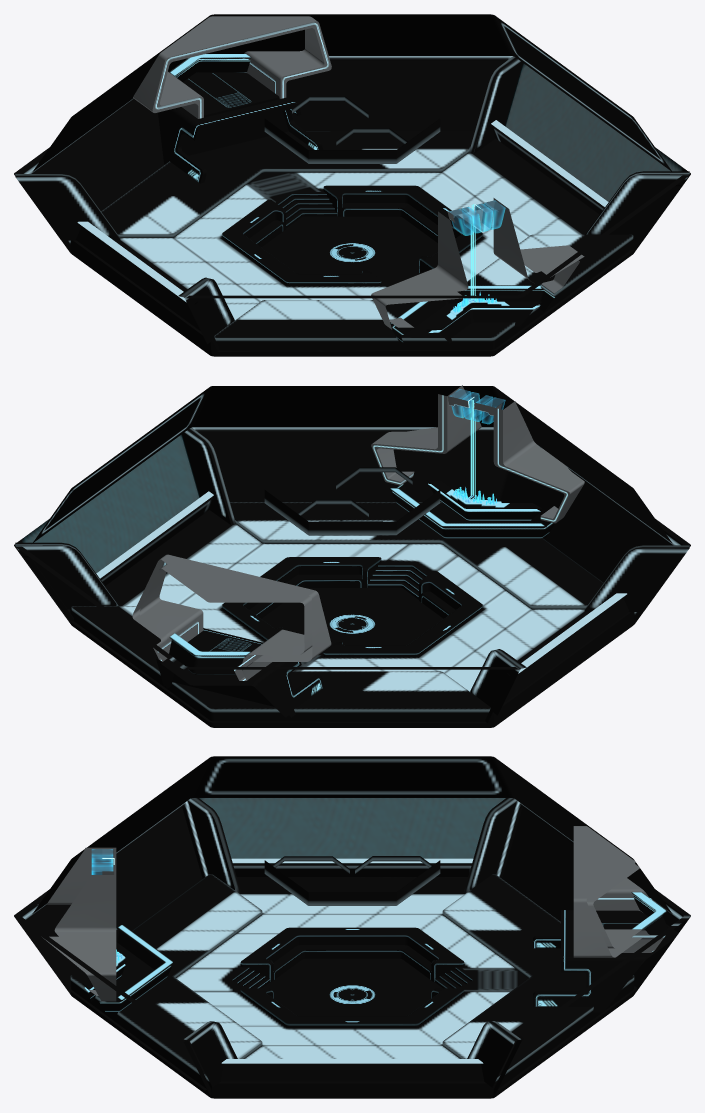
The model's file is end_of_line_club.glb.
3 views of the same model, one above another, from view 1: azimuth 30°, elevation 25°; view 2: azimuth 150°, elevation 25°; view 3: azimuth 270°, elevation 25° (orthographic).
Visible parts, largest first — view 1: WallGen_low, EntranceMain_low, CenterFloor_low, BarWalls_low, BarCity_1; view 2: WallGen_low, EntranceMain_low, CenterFloor_low, BarWalls_low, BarCity_1; view 3: WallGen_low, CenterFloor_low, EntranceMain_low, BarWalls_low.
Boxes of the visible parts, x1,y1,x2,y2 form: WallGen_low: [14, 14, 690, 356]; EntranceMain_low: [133, 16, 331, 183]; CenterFloor_low: [222, 185, 482, 285]; BarWalls_low: [371, 198, 584, 344]; BarCity_1: [453, 204, 496, 312]; WallGen_low: [14, 386, 690, 727]; EntranceMain_low: [132, 554, 331, 717]; CenterFloor_low: [222, 557, 482, 657]; BarWalls_low: [371, 385, 584, 538]; BarCity_1: [453, 400, 497, 504]; WallGen_low: [14, 756, 690, 1098]; CenterFloor_low: [228, 927, 476, 1027]; EntranceMain_low: [533, 826, 678, 1012]; BarWalls_low: [37, 847, 173, 1014].
Size of the model in its own units: 34.41 by 8.78 by 39.43.
Materials: 5 (5 with a texture image).
